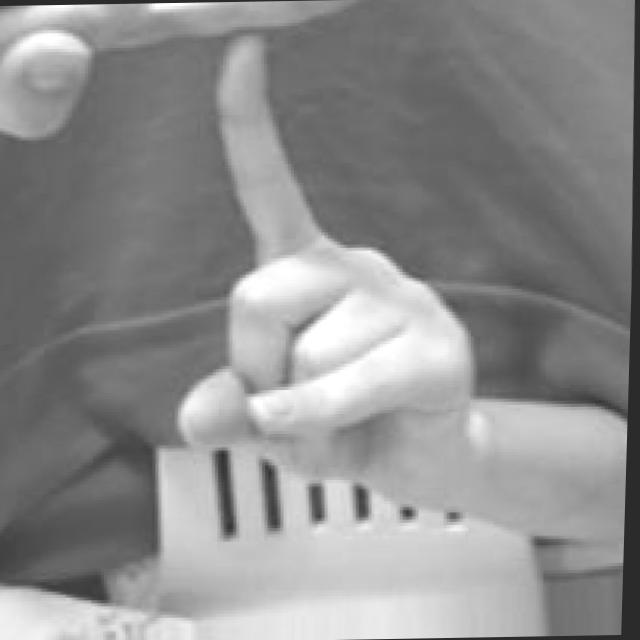T: (0, 0, 486, 516)
